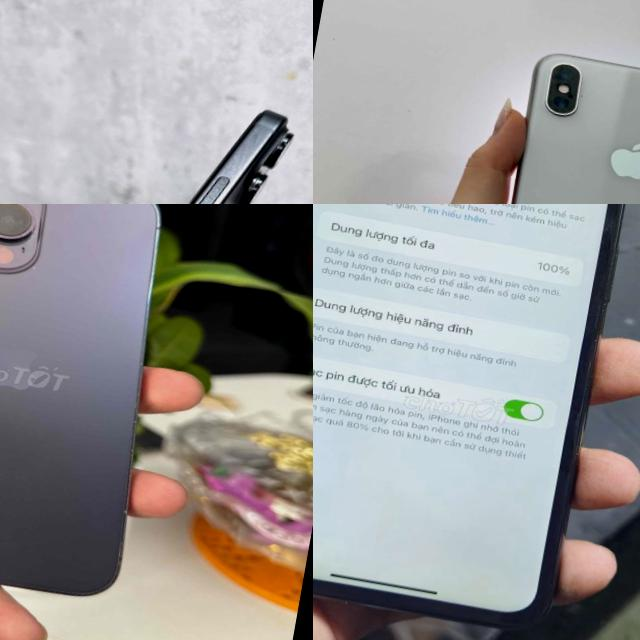gen_14: (0, 204, 195, 612)
gen_15: (0, 61, 313, 204)
gen_x_xs: (313, 204, 640, 640), (511, 54, 640, 204)
scratch: (579, 204, 640, 378), (194, 173, 229, 204), (574, 88, 590, 104)
